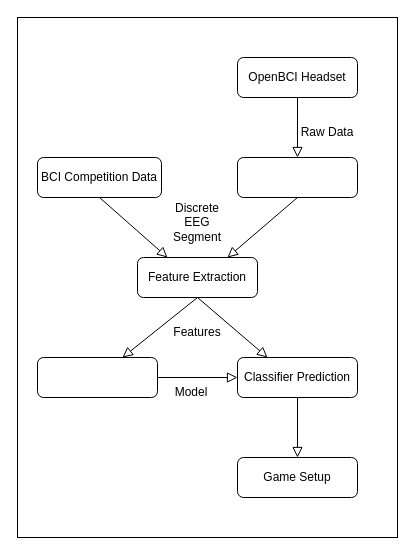
Image size: 415x555. Some labels were removed from this diagram. The box of each missing label's shape, as (x1, y1, x2, y2) in pixels:
Classifier Training: (36, 356, 158, 398)
Data API: (236, 156, 358, 198)
